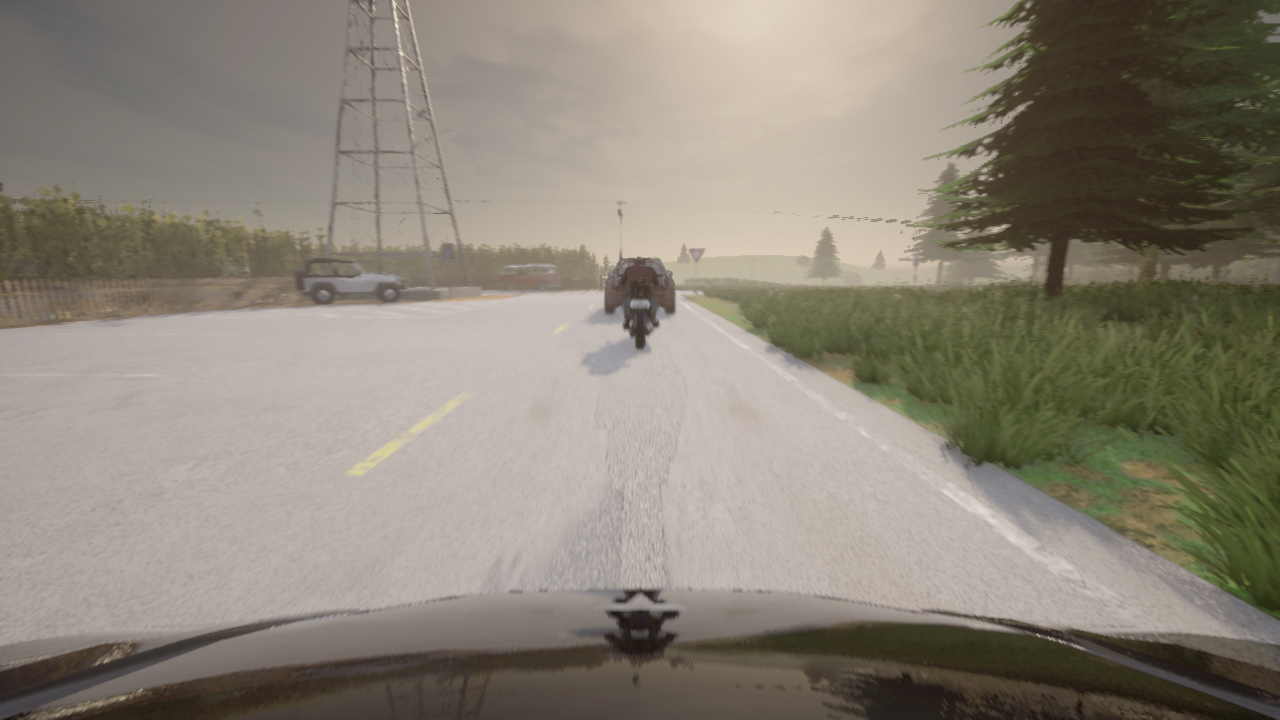cyclist: (0, 588, 1279, 719), (295, 257, 405, 304), (605, 258, 674, 313), (617, 274, 662, 348), (498, 264, 560, 291), (367, 272, 401, 282)
